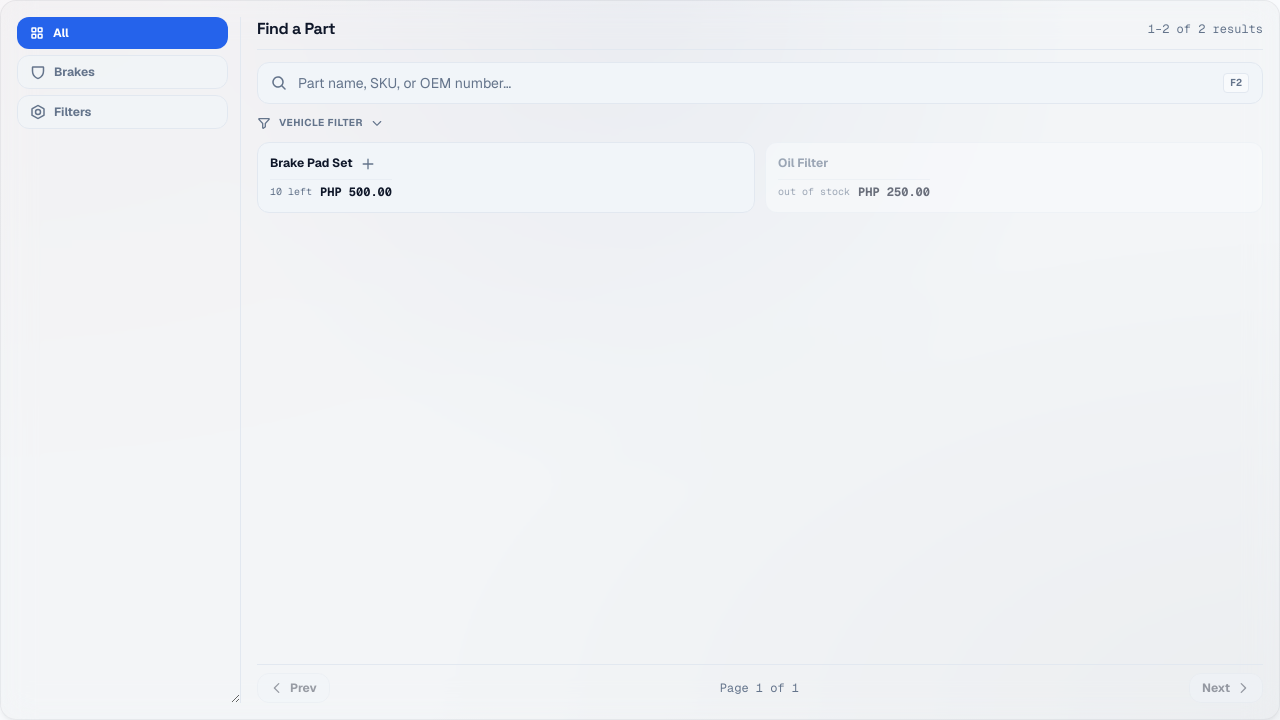
Test: PosCatalogPanel › filters by part name
The image size is (1280, 720).
Type "brake" into the field named "search parts" at (760, 83), box [257,62,1263,104]
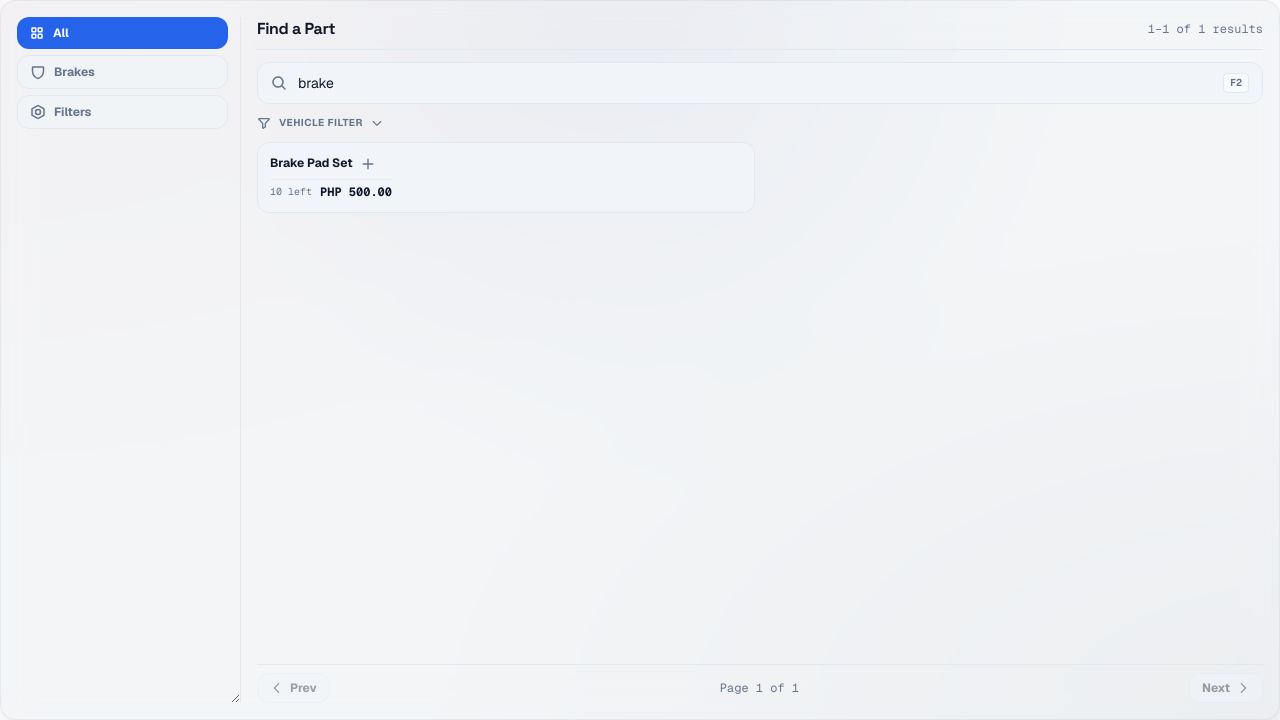
expect the text "Brake Pad Set" is shown: met, box [270,155,353,171]
expect the button "Oil Filter" is gone: met
